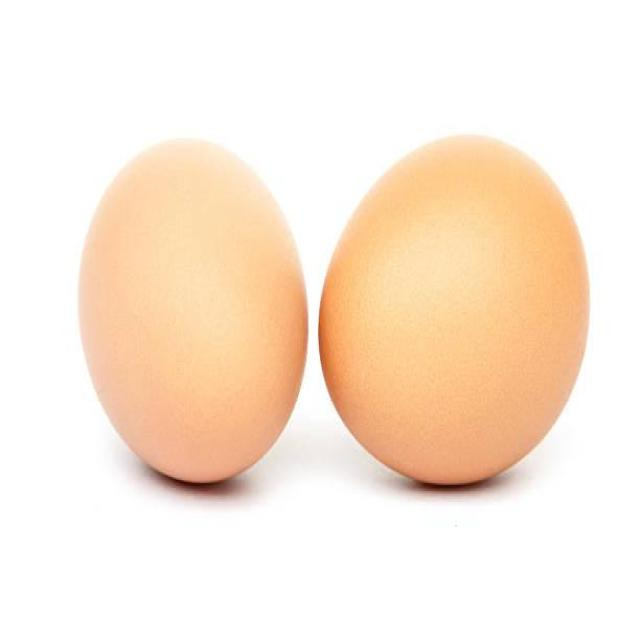Egg: (319, 136, 589, 483), (78, 140, 306, 482)
